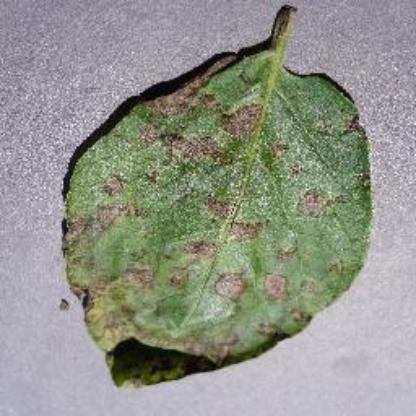Early-Blight: (61, 6, 374, 390)
